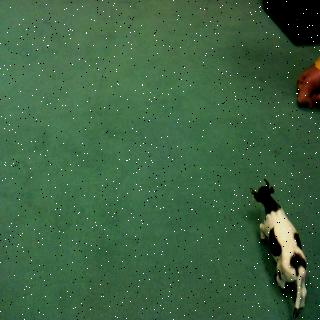cow: (242, 176, 312, 320)
